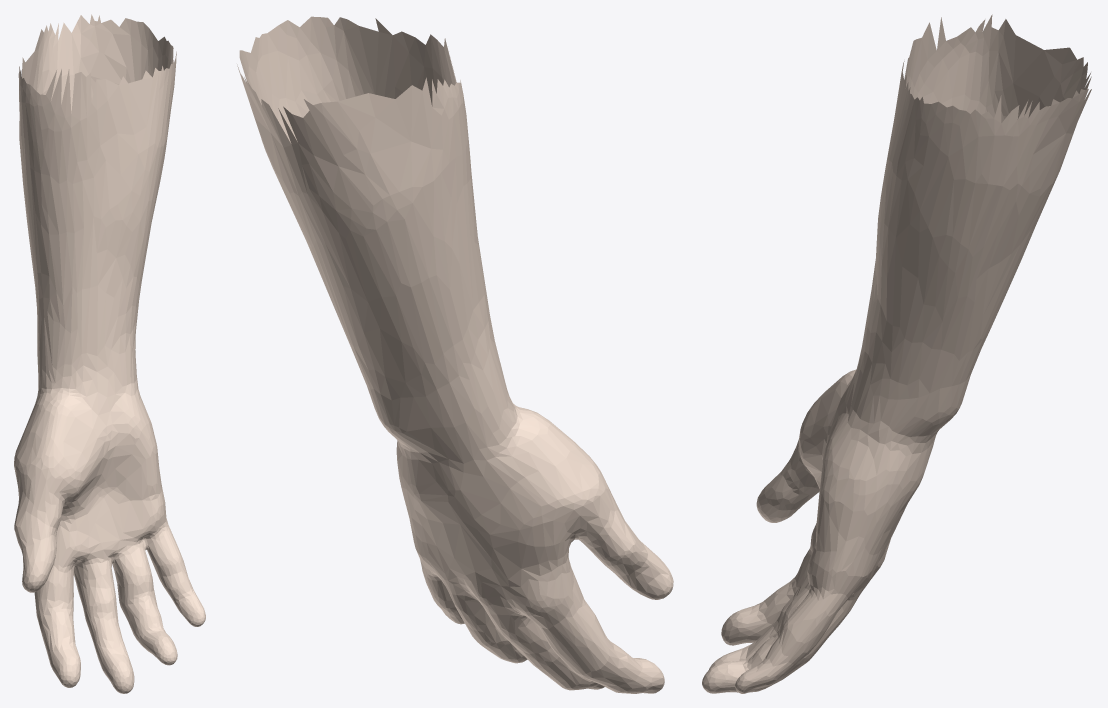
Rendered from muneca-piel.glb.
3 renders of one model, left to right at view 1: azimuth 30°, elevation 25°; view 2: azimuth 150°, elevation 25°; view 3: azimuth 270°, elevation 25°, orthographic. The views are drawn at different scales.
Parts seen in each view (by area): view 1: piel_del_antebrazo_y_la_mano; view 2: piel_del_antebrazo_y_la_mano; view 3: piel_del_antebrazo_y_la_mano.
Boxes of the visible parts, box(x1,y1,x2,y2) form: piel_del_antebrazo_y_la_mano: box(14, 14, 205, 693); piel_del_antebrazo_y_la_mano: box(237, 16, 673, 693); piel_del_antebrazo_y_la_mano: box(702, 14, 1091, 693).
Bounding box in the file's own units: 0.1593 × 0.3639 × 0.1868.
